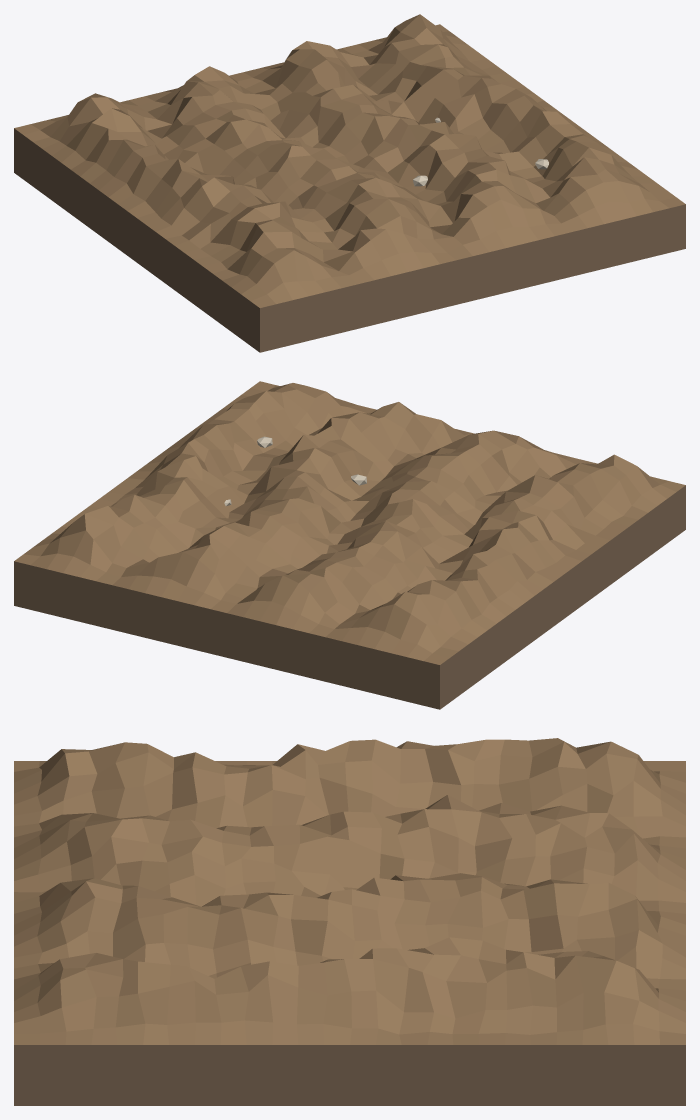
File: TilledSoil.fbx
3 views of the same model, one above another, from view 1: azimuth 30°, elevation 25°; view 2: azimuth 150°, elevation 25°; view 3: azimuth 270°, elevation 25° (orthographic). The views are drawn at different scales.
Visible parts, largest first — view 1: Tile_Tilled; view 2: Tile_Tilled; view 3: Tile_Tilled.
Boxes of the visible parts, x1,y1,x2,y2 form: Tile_Tilled: (14,14,685,352); Tile_Tilled: (14,381,685,709); Tile_Tilled: (14,738,685,1105).
Size of the model in its own units: 1 by 0.1906 by 1.
